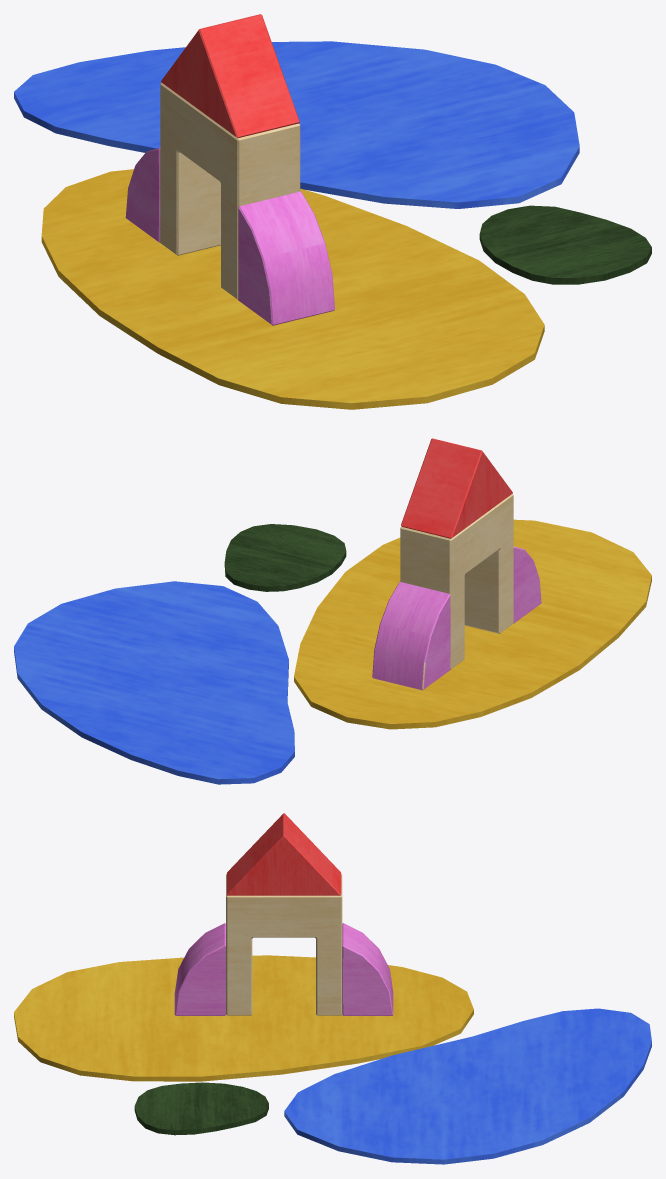
The model's file is square.fbx.
3 renders of one model, top to bottom at view 1: azimuth 30°, elevation 25°; view 2: azimuth 150°, elevation 25°; view 3: azimuth 270°, elevation 25°, orthographic. The views are drawn at different scales.
Parts seen in each view (by area): view 1: square; view 2: square; view 3: square.
Boxes of the visible parts, left/top/right/bottom form: square: left=14, top=14, right=651, bottom=409; square: left=14, top=438, right=651, bottom=784; square: left=14, top=813, right=651, bottom=1164.
Bounding box in the file's own units: 12.15 × 5.18 × 16.03.
